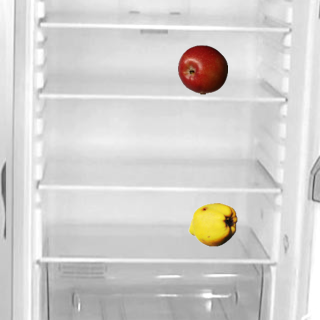Apple Braeburn: (177, 44, 227, 94)
Quince: (187, 199, 237, 249)
